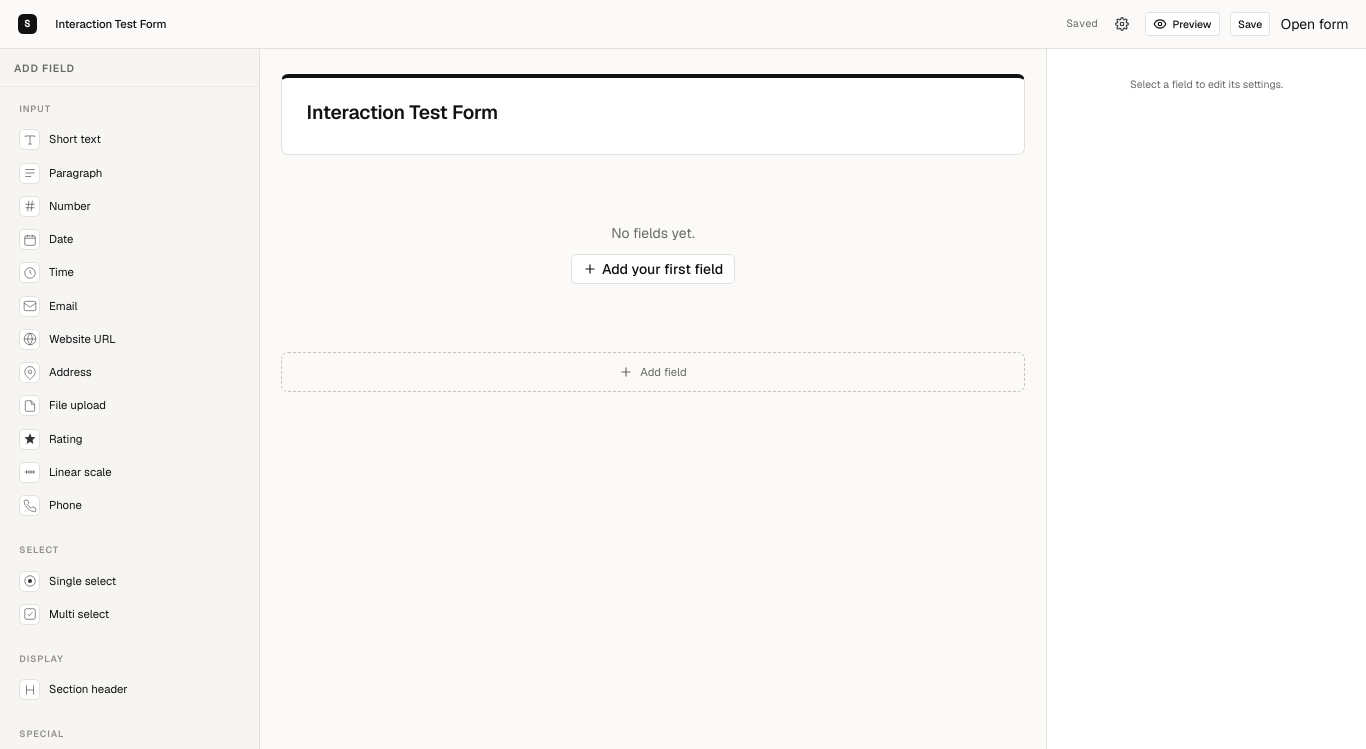
Test: BuilderPage interactions › settings modal › closes the settings modal when Done is clicked
Step 1. Click the button named "settings" → (1122, 24), box [1108, 12, 1135, 36]
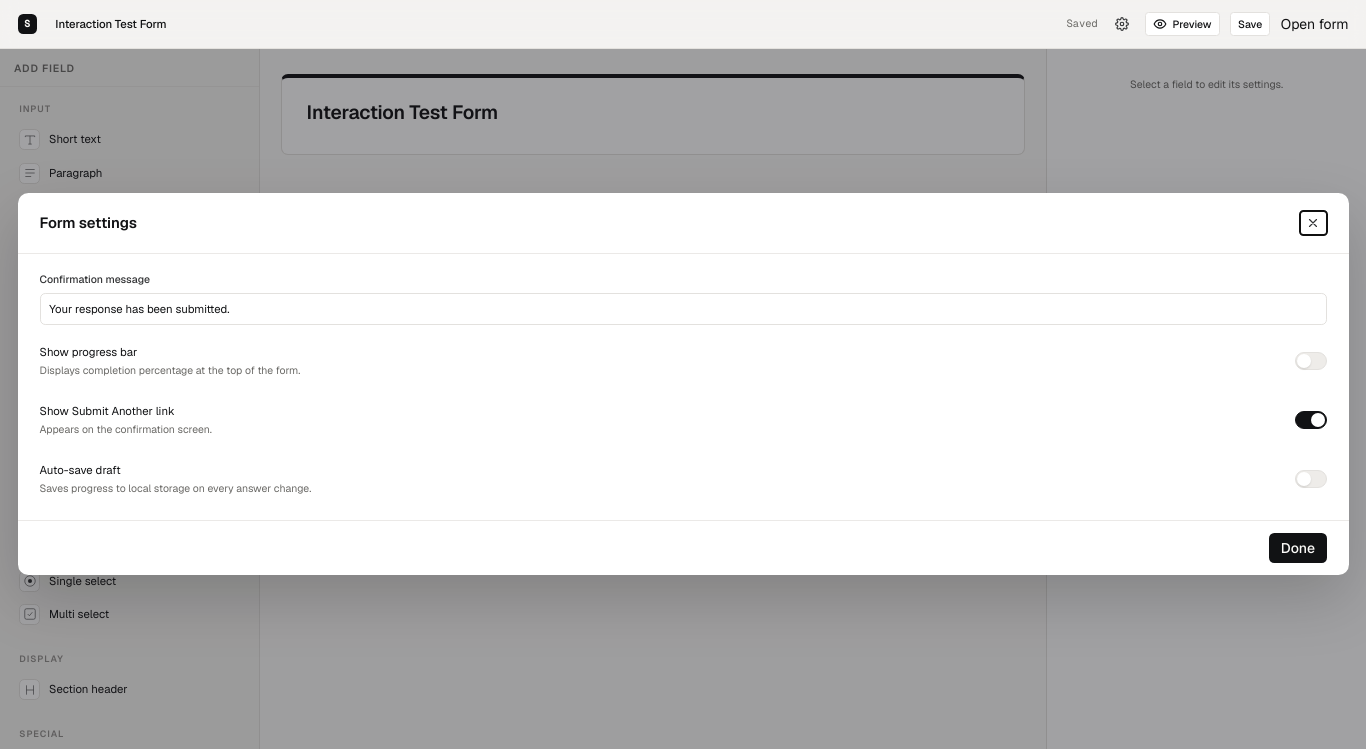
Result: the heading "Form settings" is shown at [40, 212, 137, 234]
Step 2. Click the button "Done" → (1298, 548), box [1269, 533, 1326, 563]
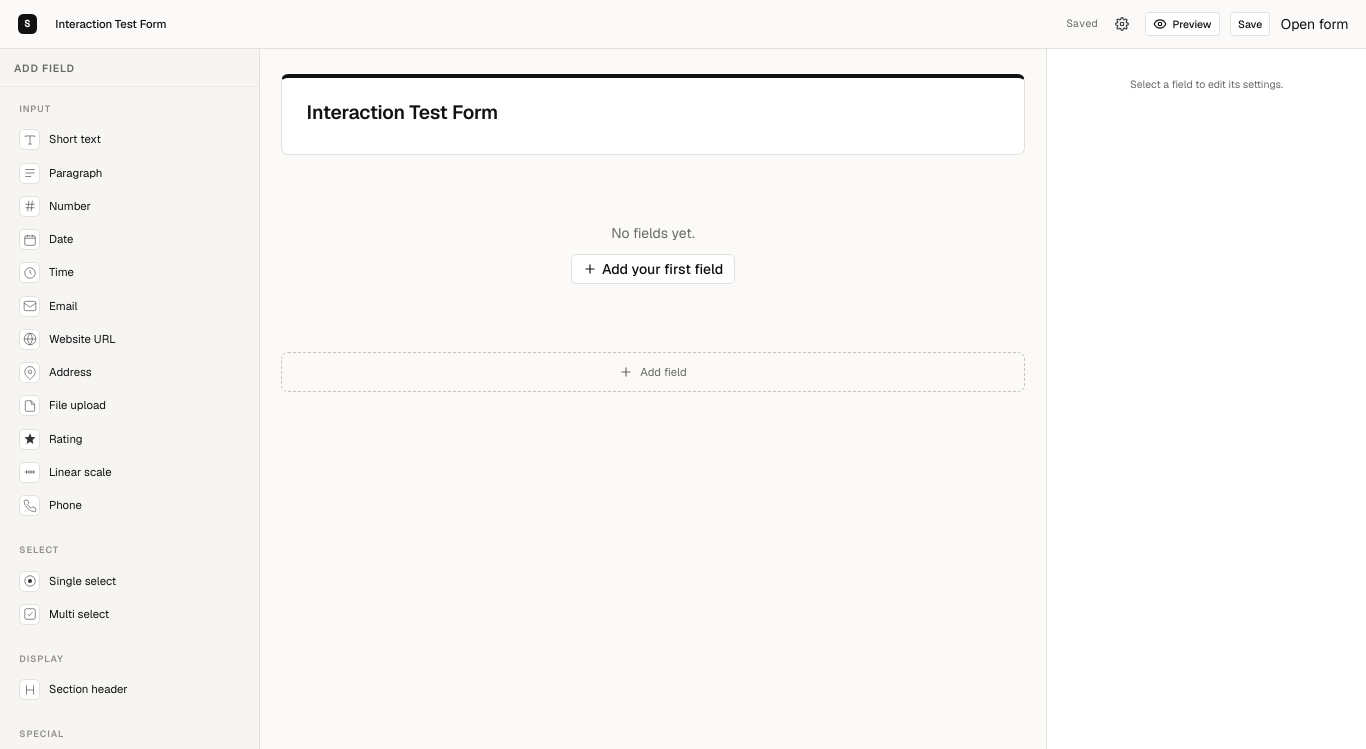
Result: the heading "Form settings" is gone
